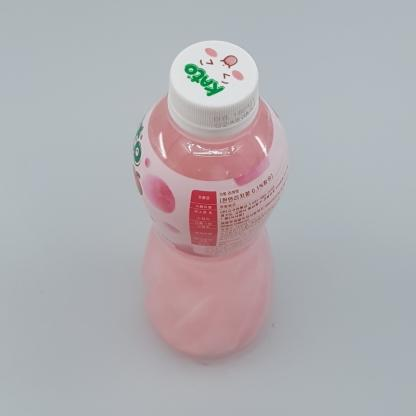-----------: (132, 38, 290, 361)
